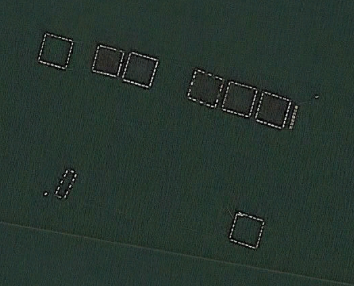square: (219, 201, 274, 255), (184, 58, 230, 115), (250, 85, 297, 139), (34, 27, 82, 74), (221, 72, 262, 126), (117, 48, 162, 95), (86, 38, 129, 81)
